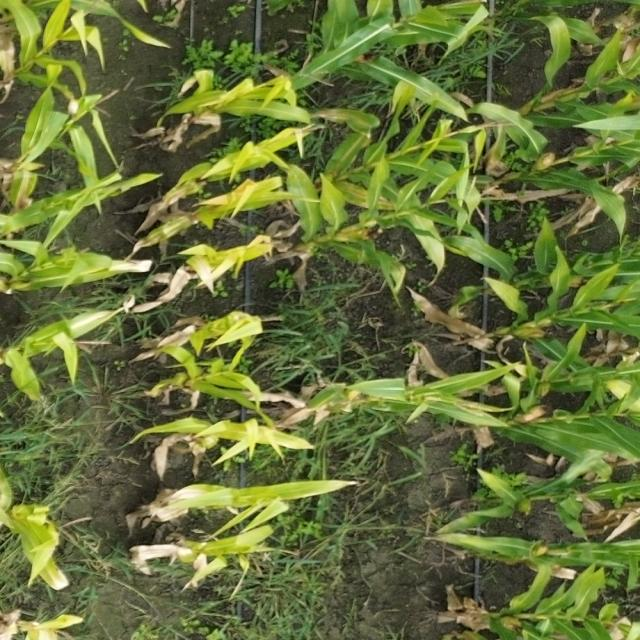northern-leaf-blight: (271, 374, 365, 427), (335, 168, 413, 223)
